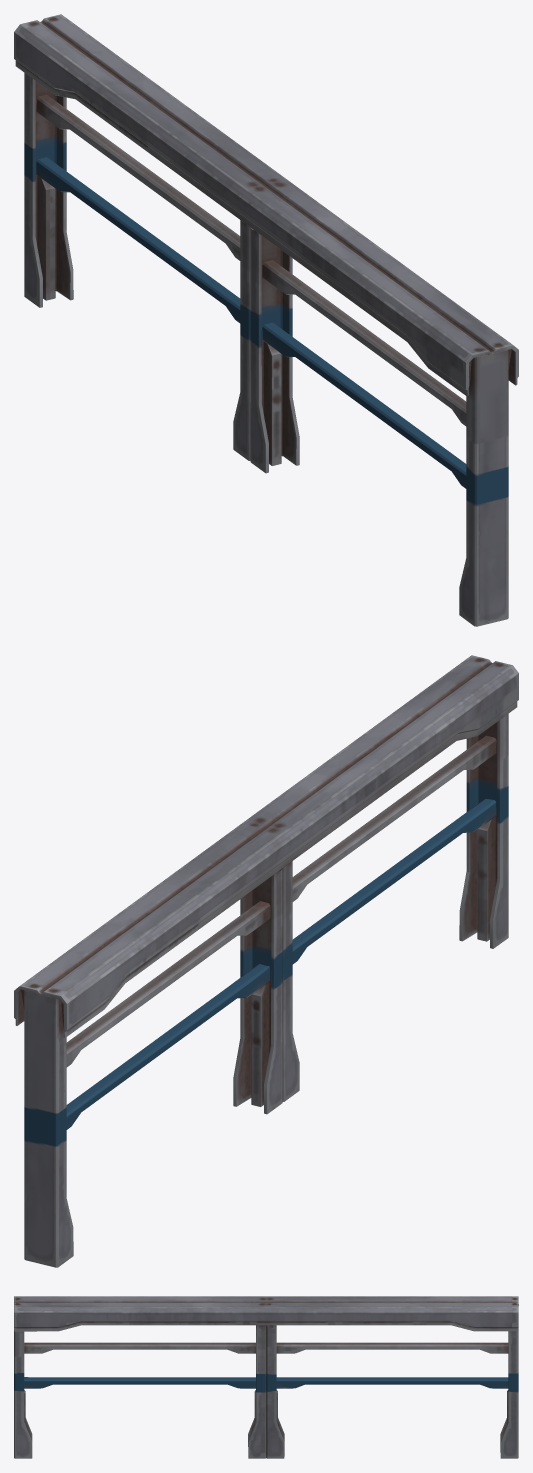
The model's file is Railing_Metal_C.glb.
3 renders of one model, top to bottom at view 1: azimuth 30°, elevation 25°; view 2: azimuth 150°, elevation 25°; view 3: azimuth 270°, elevation 25°, orthographic. The views are drawn at different scales.
Visible parts, largest first — view 1: SM_Metal_RailingVertical; view 2: SM_Metal_RailingVertical; view 3: SM_Metal_RailingVertical.
Part boxes in pixels (bbox=[...]): SM_Metal_RailingVertical: bbox=[14, 14, 518, 626]; SM_Metal_RailingVertical: bbox=[14, 655, 518, 1267]; SM_Metal_RailingVertical: bbox=[14, 1296, 518, 1458].
Bounding box in the file's own units: 0.2045 × 1 × 3.
1 material, 1 textured.
